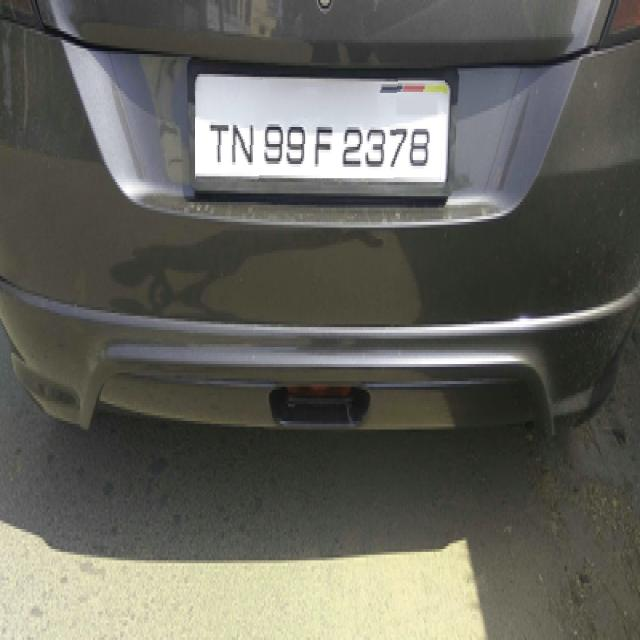licence: (195, 77, 445, 182)
